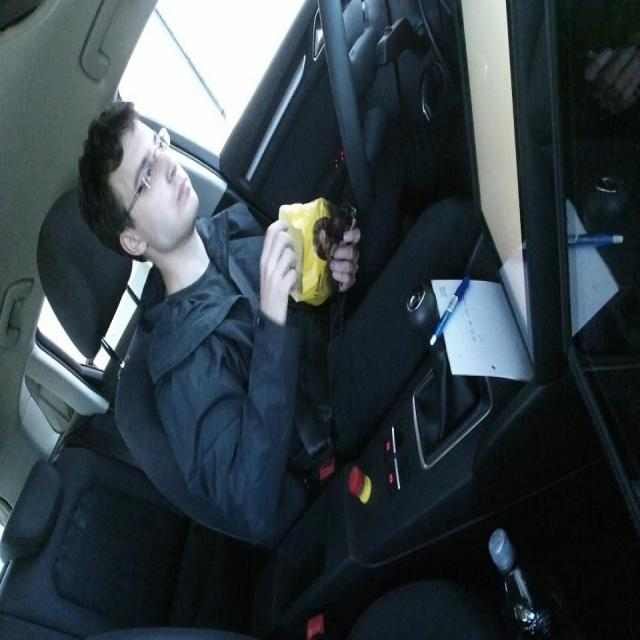pen: (428, 273, 471, 346)
